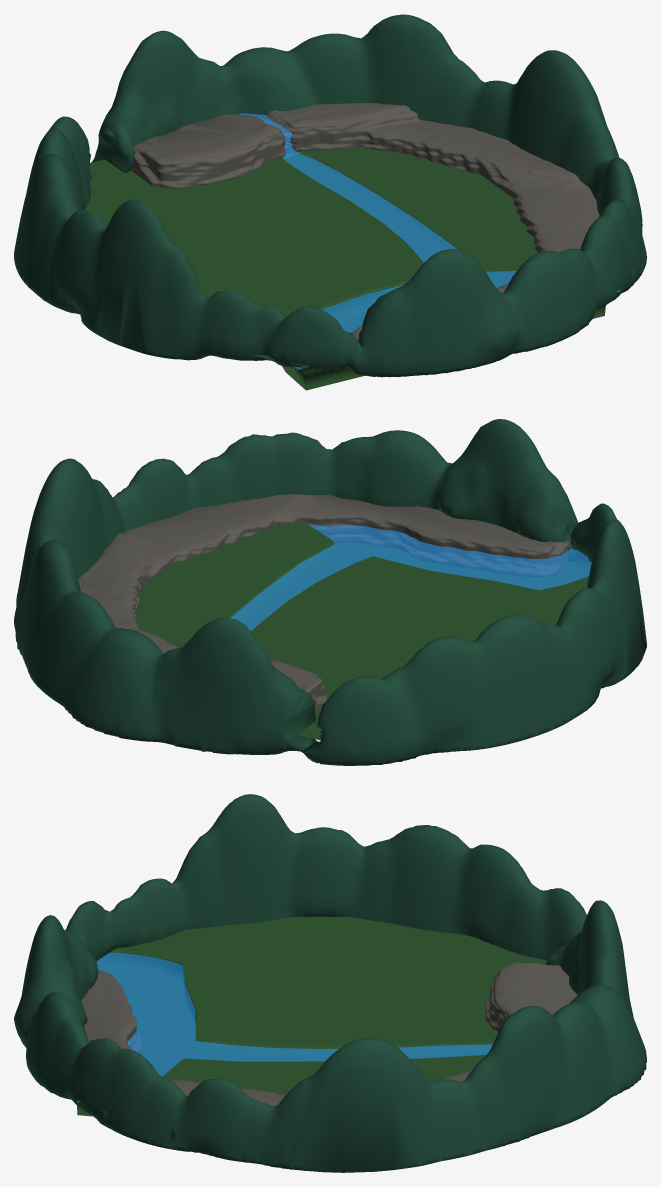
The model's file is rrrrr33.glb.
The picture shows the model from 3 angles, top to bottom: view 1: azimuth 30°, elevation 25°; view 2: azimuth 150°, elevation 25°; view 3: azimuth 270°, elevation 25°; orthographic projection. The views are drawn at different scales.
Parts seen in each view (by area): view 1: mtns, flat, cliff.004, surface; view 2: mtns, flat, cliff.004, surface; view 3: mtns, flat, surface, cliff.004.
Boxes of the visible parts, <box> form: mtns: <box>14,14,646,377</box>; flat: <box>85,146,605,390</box>; cliff.004: <box>130,103,599,340</box>; surface: <box>239,113,620,369</box>; mtns: <box>14,419,646,765</box>; flat: <box>135,521,591,740</box>; cliff.004: <box>78,494,570,713</box>; surface: <box>231,525,591,630</box>; mtns: <box>14,794,646,1172</box>; flat: <box>77,916,546,1116</box>; surface: <box>77,952,492,1102</box>; cliff.004: <box>81,962,577,1106</box>.
Size of the model in its own units: 655 by 162 by 666.
